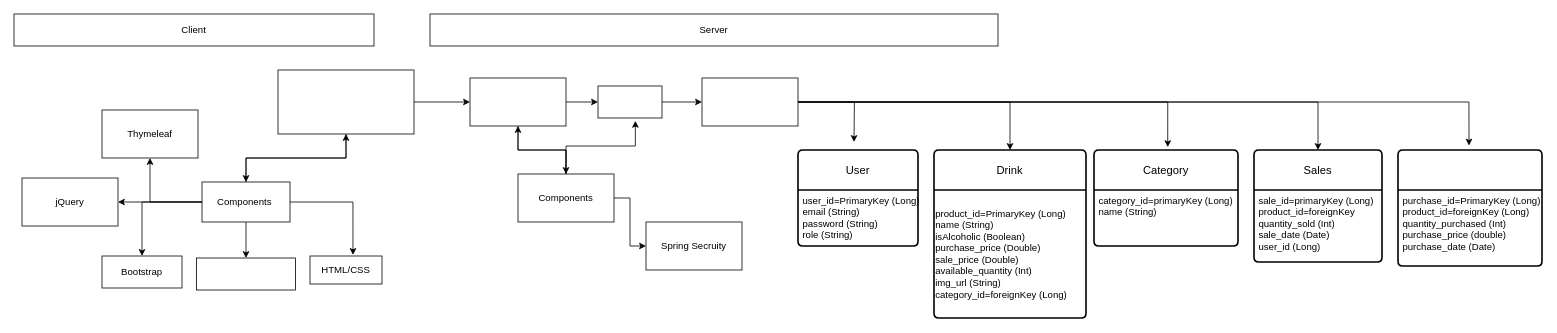
This 1557x333 diagram has some shape labels left out. Here are the shapes that lost their labels. From the top down, the box of each, then its label:
(277, 69, 414, 134): "Webpage"
(469, 77, 566, 126): SpringBoot + Spring MVC
(597, 85, 662, 118): JPA
(701, 77, 798, 126): MySQL
(1397, 149, 1542, 266): PurchaseHistory
(196, 257, 296, 290): (Vanilla JavaScript)
